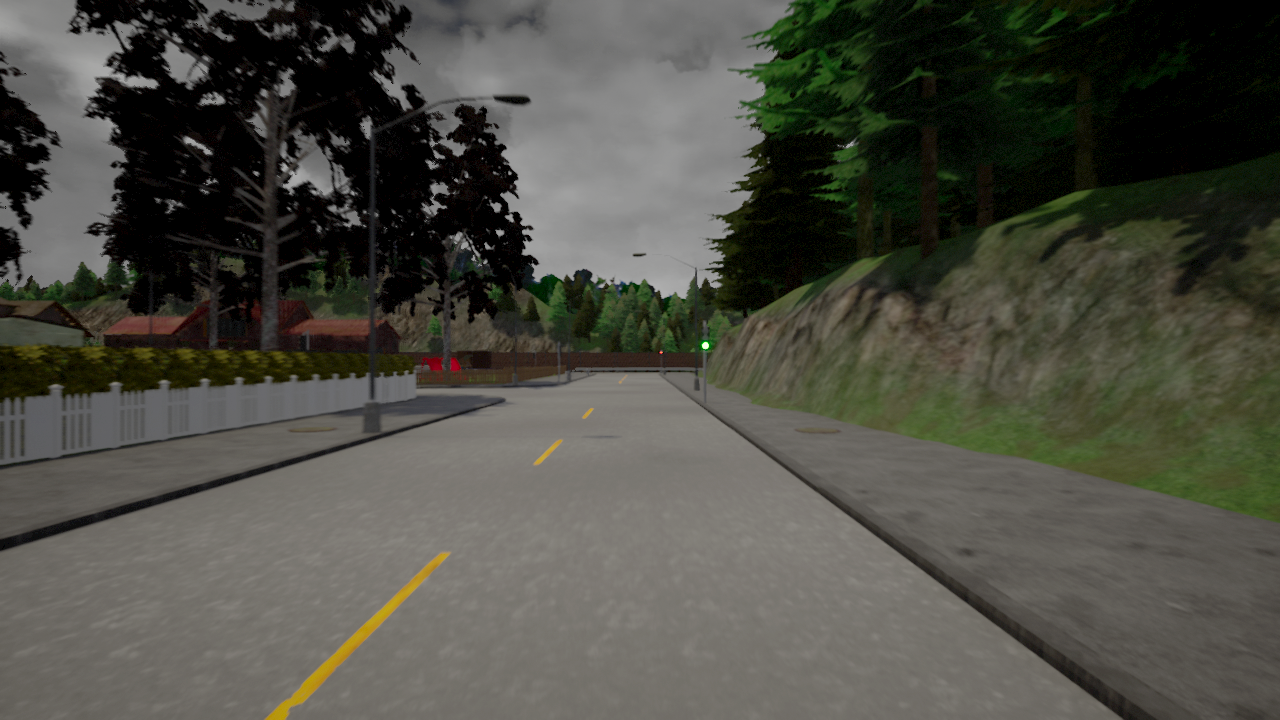green: (700, 325, 711, 351)
